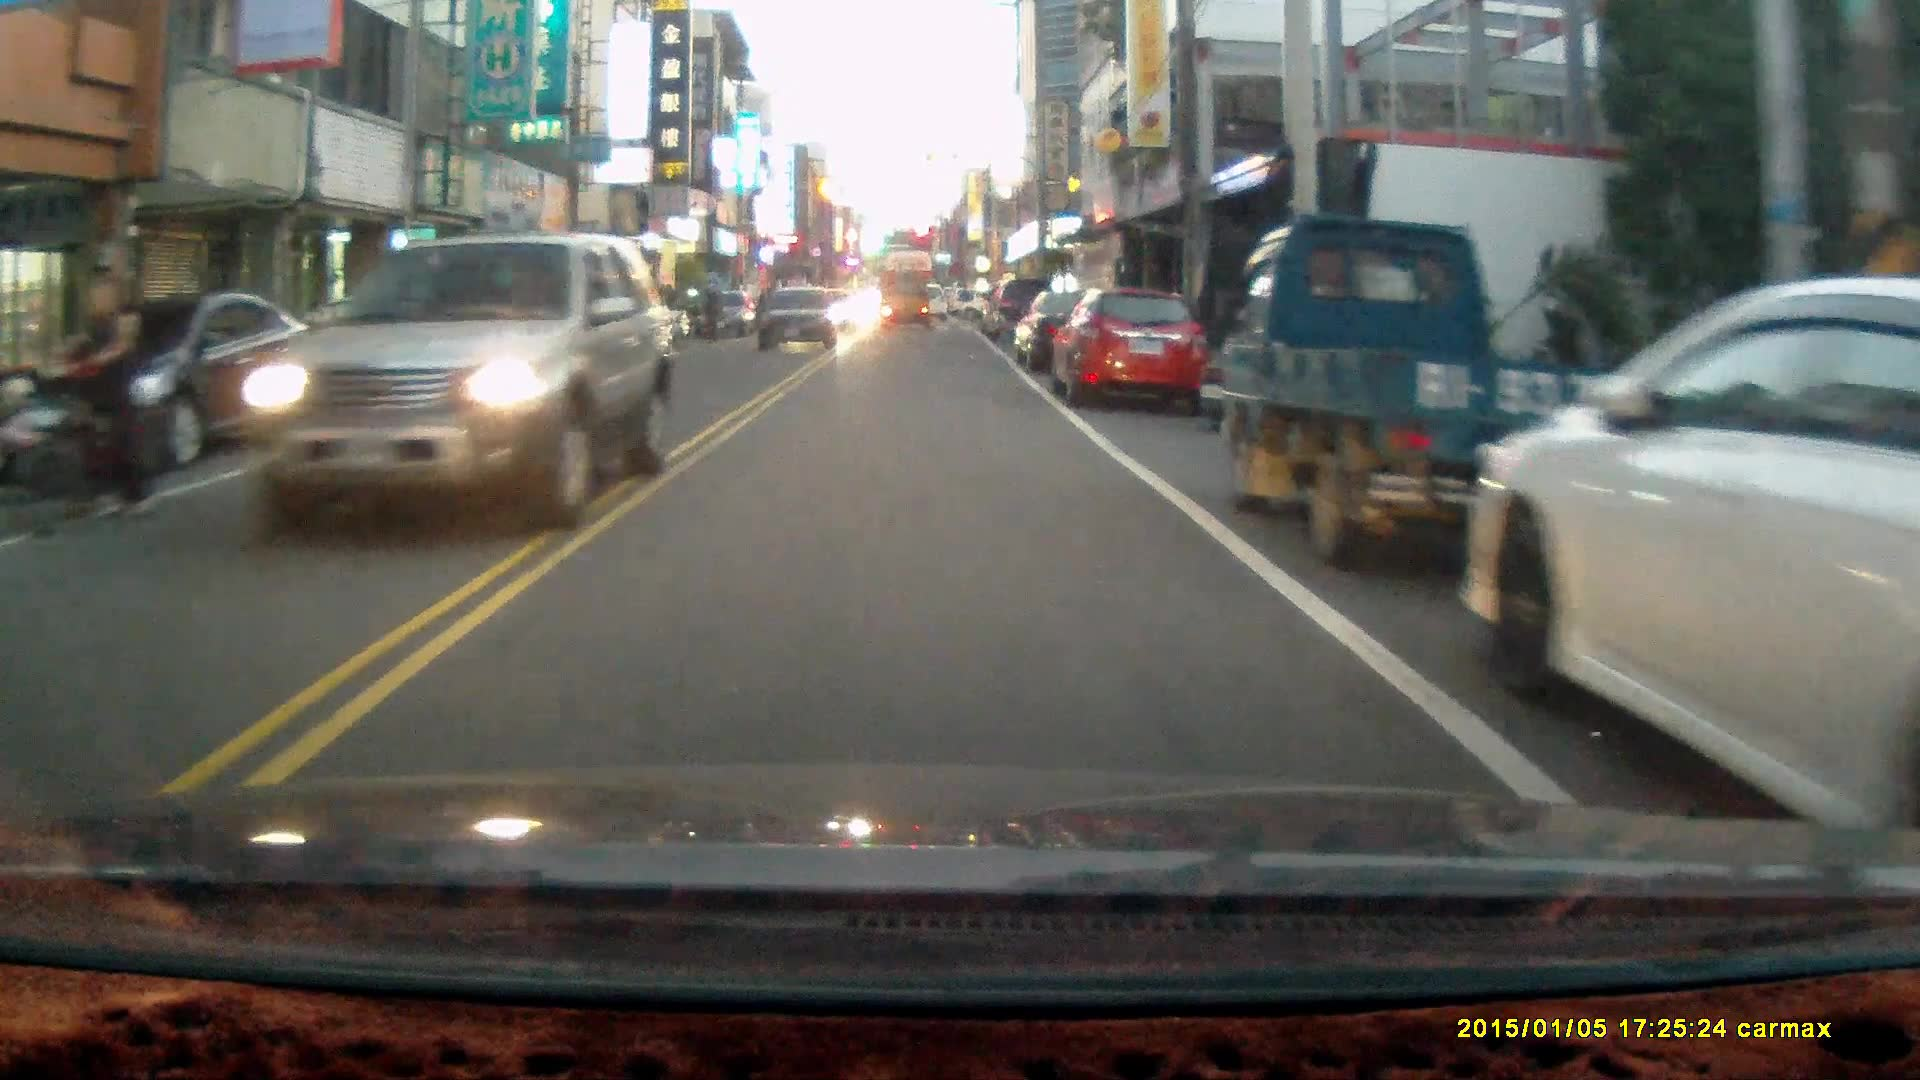pedestrian: (700, 277, 723, 344)
rider: (14, 266, 169, 533)
vehicle: (1460, 276, 1920, 882), (1219, 216, 1669, 578), (238, 236, 671, 537), (1055, 290, 1209, 412), (1008, 286, 1143, 381), (762, 285, 836, 355), (878, 277, 933, 333)
